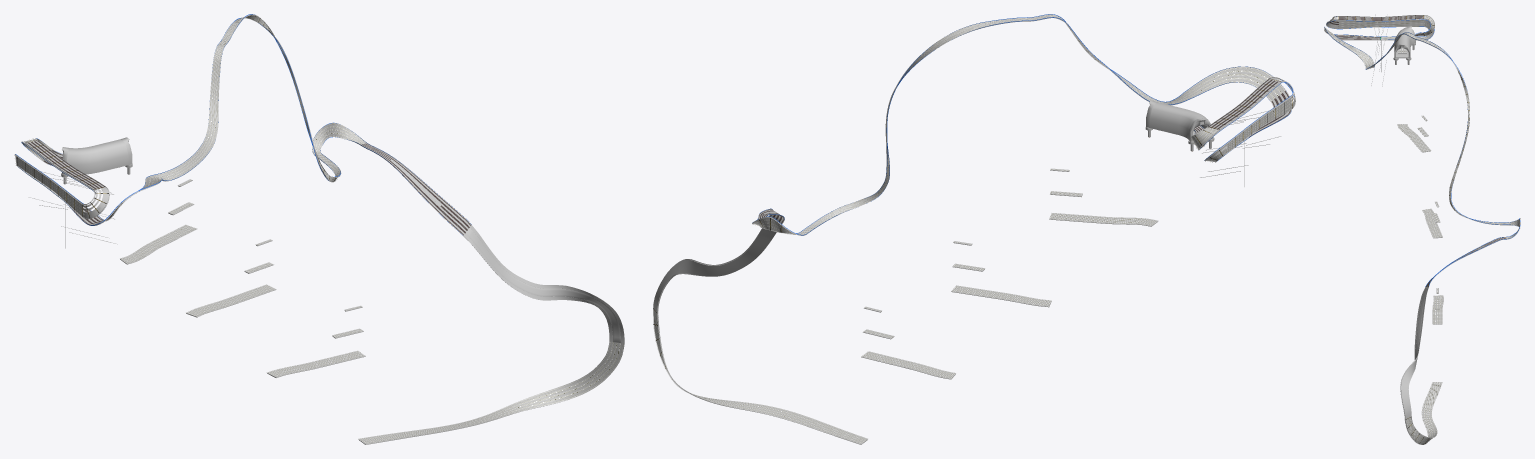
3 renders of one model, left to right at view 1: azimuth 30°, elevation 25°; view 2: azimuth 150°, elevation 25°; view 3: azimuth 270°, elevation 25°, orthographic. The views are drawn at different scales.
Visible parts, largest first — view 1: C21_ROAD22, C21_ROAD11, TUNNEL_A, C21_ROAD28, C21_ICE01, C21_ROAD24, C21_DRT01, C21_ROAD06, C21_ROAD26, C21_ROAD25; view 2: C21_ROAD11, C21_ROAD22, C21_ROAD23, TUNNEL_A, C21_ROAD26, C21_ROAD29, C21_ROAD06, C21_ROAD28; view 3: C21_ROAD11, C21_ROAD22, C21_ROAD26, C21_ROAD23, C21_ROAD06, TUNNEL_A, C21_ROAD01, C21_ROAD28, C21_ROAD04, C21_ROAD03, C21_ICE01, C21_DRT01 (+1 smaller).
Part boxes in pixels (box(x1,y1,x2,y2)): C21_ROAD22: box(358, 341, 624, 444); C21_ROAD11: box(120, 179, 365, 377); TUNNEL_A: box(61, 137, 132, 184); C21_ROAD28: box(145, 46, 224, 184); C21_ICE01: box(465, 228, 621, 342); C21_ROAD24: box(360, 143, 471, 235); C21_DRT01: box(463, 225, 624, 343); C21_ROAD06: box(21, 138, 105, 190); C21_ROAD26: box(227, 14, 341, 182); C21_ROAD25: box(312, 122, 366, 155); C21_ROAD11: box(861, 168, 1158, 379); C21_ROAD22: box(653, 308, 867, 444); C21_ROAD23: box(653, 228, 776, 313); TUNNEL_A: box(1145, 100, 1214, 151); C21_ROAD26: box(800, 18, 1015, 233); C21_ROAD29: box(1207, 66, 1291, 115); C21_ROAD06: box(1190, 79, 1281, 150); C21_ROAD28: box(1049, 14, 1215, 105); C21_ROAD11: box(1397, 115, 1443, 324); C21_ROAD22: box(1405, 382, 1442, 444); C21_ROAD26: box(1423, 40, 1506, 225); C21_ROAD23: box(1400, 287, 1428, 419); C21_ROAD06: box(1338, 15, 1434, 36); TUNNEL_A: box(1393, 26, 1415, 64); C21_ROAD01: box(1338, 23, 1434, 40); C21_ROAD28: box(1343, 32, 1408, 69); C21_ROAD04: box(1338, 20, 1381, 28); C21_ROAD03: box(1381, 19, 1423, 26); C21_ICE01: box(1415, 286, 1427, 358); C21_DRT01: box(1414, 286, 1428, 359).
Bounding box in the file's own units: 541563 × 386253 × 231316.
